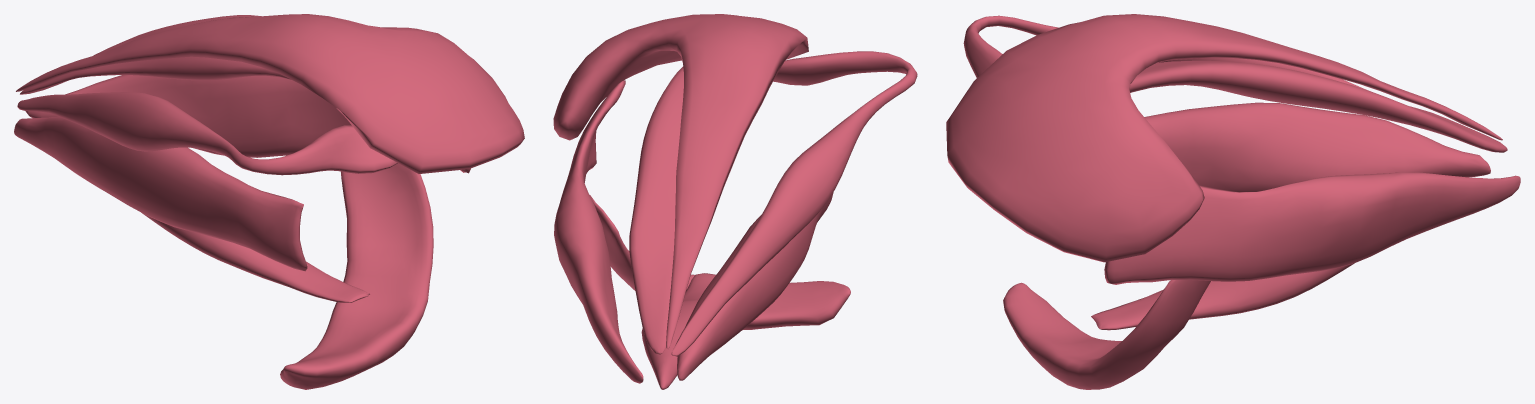
The model's file is VH_M_Muscles_Eye_L.fbx.
3 views of the same model, side by side, from view 1: azimuth 30°, elevation 25°; view 2: azimuth 150°, elevation 25°; view 3: azimuth 270°, elevation 25° (orthographic). The views are drawn at different scales.
Visible parts, largest first — view 1: VH_M_levator_palpebrae_superioris_L, VH_M_inferior_oblique_extraocular_muscle_L, VH_M_medial_rectus_extraocular_muscle_L, VH_M_superior_oblique_extraocular_muscle_L, VH_M_lateral_rectus_extraocular_muscle_L, VH_M_inferior_rectus_extraocular_muscle_L, VH_M_superior_rectus_extraocular_muscle_L; view 2: VH_M_levator_palpebrae_superioris_L, VH_M_superior_oblique_extraocular_muscle_L, VH_M_superior_rectus_extraocular_muscle_L, VH_M_lateral_rectus_extraocular_muscle_L, VH_M_medial_rectus_extraocular_muscle_L, VH_M_inferior_oblique_extraocular_muscle_L, VH_M_inferior_rectus_extraocular_muscle_L; view 3: VH_M_levator_palpebrae_superioris_L, VH_M_lateral_rectus_extraocular_muscle_L, VH_M_medial_rectus_extraocular_muscle_L, VH_M_inferior_oblique_extraocular_muscle_L, VH_M_superior_rectus_extraocular_muscle_L, VH_M_inferior_rectus_extraocular_muscle_L, VH_M_superior_oblique_extraocular_muscle_L.
Part boxes in pixels (x1,y1,x2,y2): VH_M_levator_palpebrae_superioris_L: (16,14,524,173); VH_M_inferior_oblique_extraocular_muscle_L: (280,163,433,389); VH_M_medial_rectus_extraocular_muscle_L: (14,116,307,271); VH_M_superior_oblique_extraocular_muscle_L: (17,92,397,175); VH_M_lateral_rectus_extraocular_muscle_L: (25,75,470,173); VH_M_inferior_rectus_extraocular_muscle_L: (141,212,369,302); VH_M_superior_rectus_extraocular_muscle_L: (20,15,292,94); VH_M_levator_palpebrae_superioris_L: (553,14,808,349); VH_M_superior_oblique_extraocular_muscle_L: (671,51,917,356); VH_M_superior_rectus_extraocular_muscle_L: (629,66,683,354); VH_M_lateral_rectus_extraocular_muscle_L: (554,80,643,383); VH_M_medial_rectus_extraocular_muscle_L: (677,192,833,380); VH_M_inferior_oblique_extraocular_muscle_L: (589,194,850,330); VH_M_inferior_rectus_extraocular_muscle_L: (641,273,715,389); VH_M_levator_palpebrae_superioris_L: (946,14,1502,262); VH_M_lateral_rectus_extraocular_muscle_L: (1104,172,1520,284); VH_M_medial_rectus_extraocular_muscle_L: (1144,102,1490,191); VH_M_inferior_oblique_extraocular_muscle_L: (1003,280,1210,389); VH_M_superior_rectus_extraocular_muscle_L: (1129,60,1507,152); VH_M_inferior_rectus_extraocular_muscle_L: (1091,263,1354,330); VH_M_superior_oblique_extraocular_muscle_L: (963,15,1368,90).
Size of the model in its own units: 3.67 by 3.58 by 5.45.
